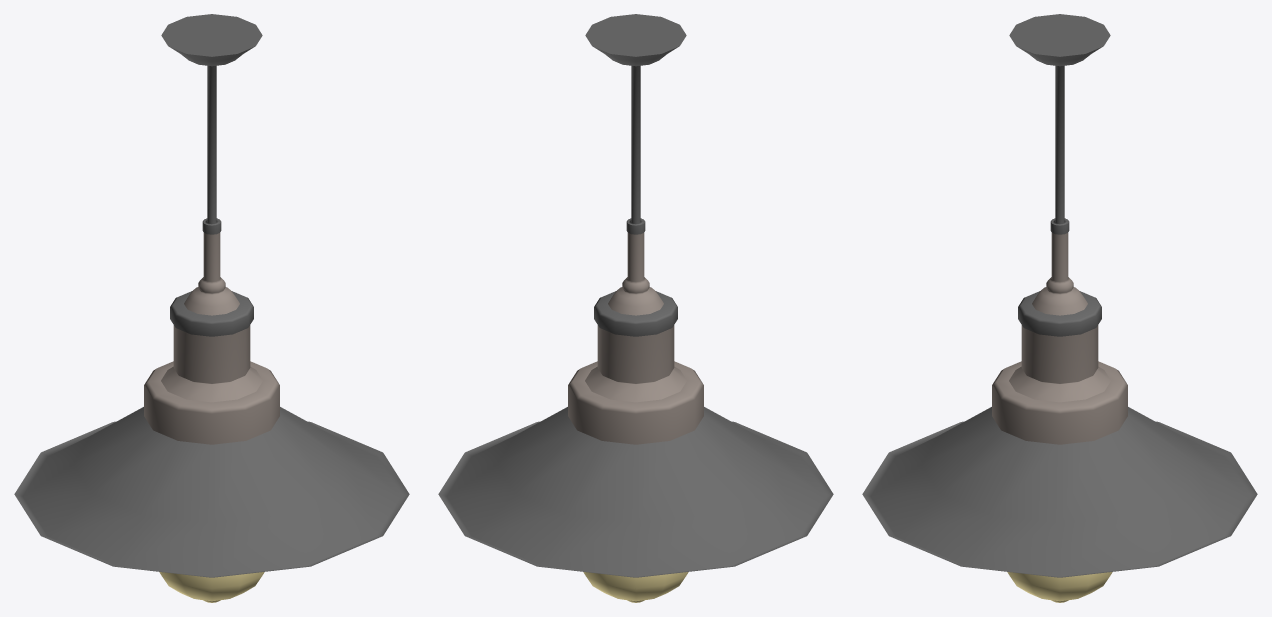
Rendered from LampenkapLampenbol.fbx.
3 views of the same model, side by side, from view 1: azimuth 30°, elevation 25°; view 2: azimuth 150°, elevation 25°; view 3: azimuth 270°, elevation 25° (orthographic).
Visible parts, largest first — view 1: Lampenkap, Lampbol; view 2: Lampenkap, Lampbol; view 3: Lampenkap, Lampbol.
Part boxes in pixels (x1,y1,x2,y2): Lampenkap: [14, 14, 409, 577]; Lampbol: [159, 572, 264, 602]; Lampenkap: [438, 14, 833, 577]; Lampbol: [583, 572, 688, 602]; Lampenkap: [862, 14, 1257, 577]; Lampbol: [1007, 572, 1112, 602].
Size of the model in its own units: 3.11 by 4.91 by 3.11.
